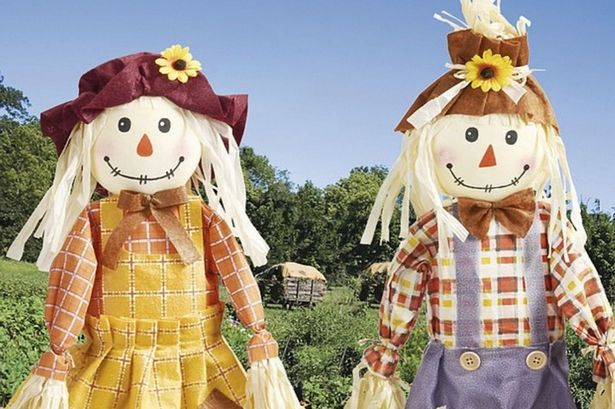person-like: (344, 18, 615, 408), (16, 48, 304, 409)
